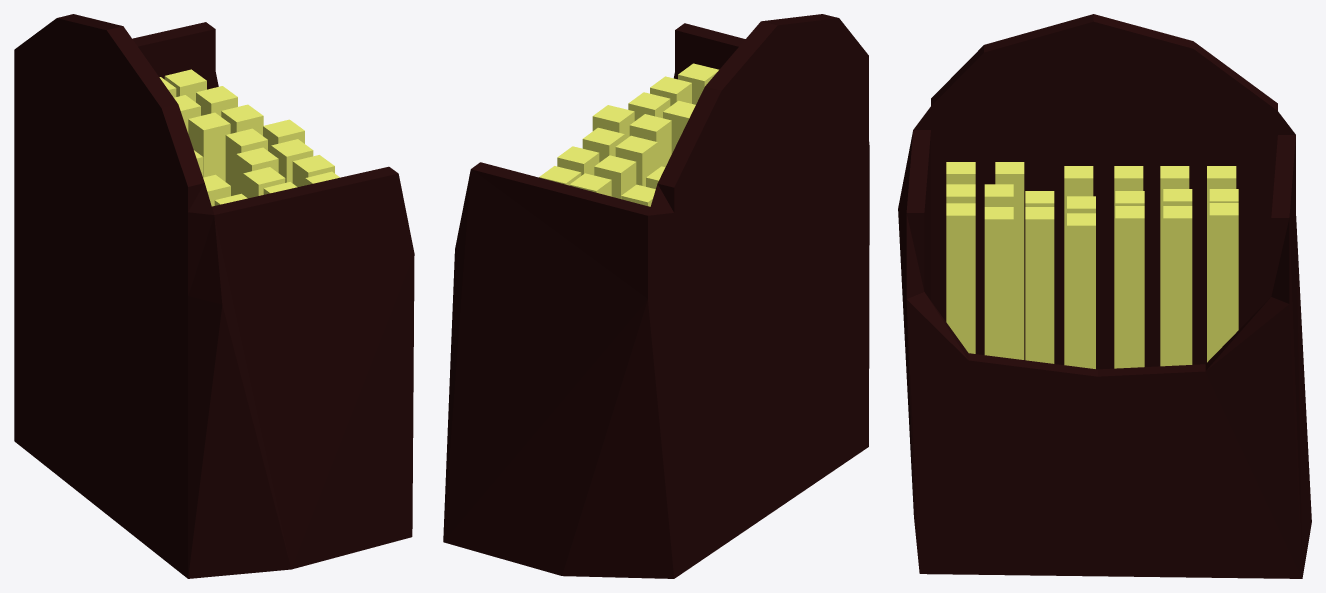
The model's file is Fries.fbx.
3 views of the same model, side by side, from view 1: azimuth 30°, elevation 25°; view 2: azimuth 150°, elevation 25°; view 3: azimuth 270°, elevation 25° (orthographic). The views are drawn at different scales.
Visible parts, largest first — view 1: box_p_papas; view 2: box_p_papas; view 3: box_p_papas.
Part boxes in pixels (x1=…): box_p_papas: x1=14, y1=14, x2=414, y2=578; box_p_papas: x1=443, y1=14, x2=869, y2=578; box_p_papas: x1=898, y1=14, x2=1311, y2=578.
Bounding box in the file's own units: 16.93 × 34.7 × 28.16.
